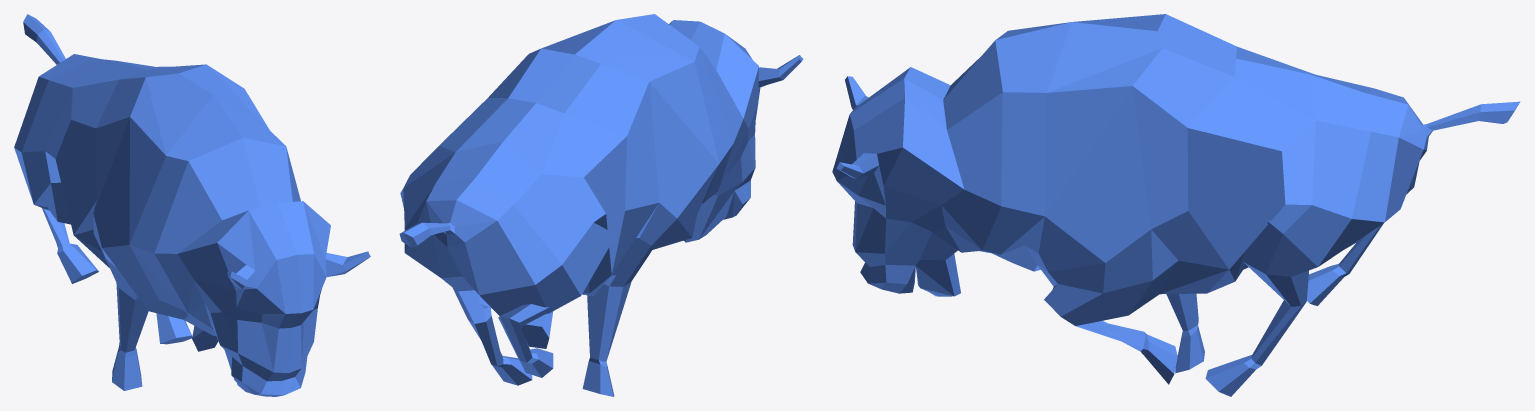
The model's file is bison_002.obj.
3 renders of one model, left to right at view 1: azimuth 30°, elevation 25°; view 2: azimuth 150°, elevation 25°; view 3: azimuth 270°, elevation 25°, orthographic. The views are drawn at different scales.
Parts seen in each view (by area): view 1: comp_bison_rig:bison_body comp_bison_rig:bison; view 2: comp_bison_rig:bison_body comp_bison_rig:bison; view 3: comp_bison_rig:bison_body comp_bison_rig:bison.
Boxes of the visible parts, box(x1,y1,x2,y2) form: comp_bison_rig:bison_body comp_bison_rig:bison: box(14, 14, 370, 396); comp_bison_rig:bison_body comp_bison_rig:bison: box(399, 14, 803, 396); comp_bison_rig:bison_body comp_bison_rig:bison: box(832, 14, 1520, 396).
Bounding box in the file's own units: 126 × 185 × 315.
